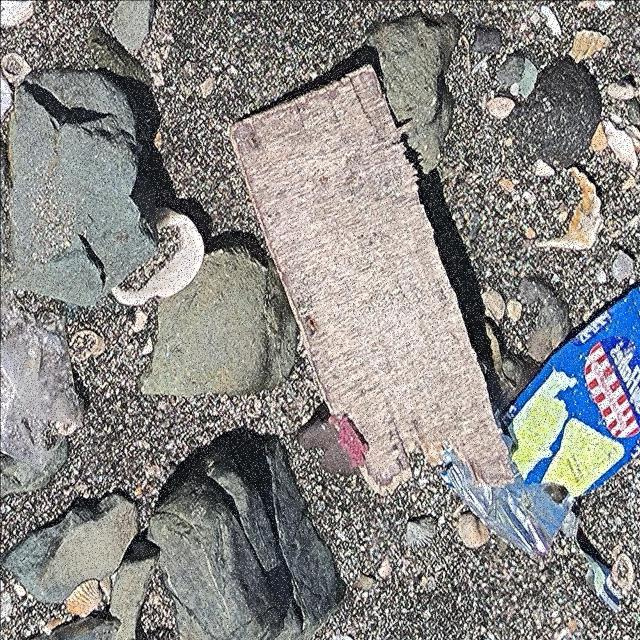plastic_waste: (436, 285, 640, 558)
wood_waste: (226, 61, 517, 499)
